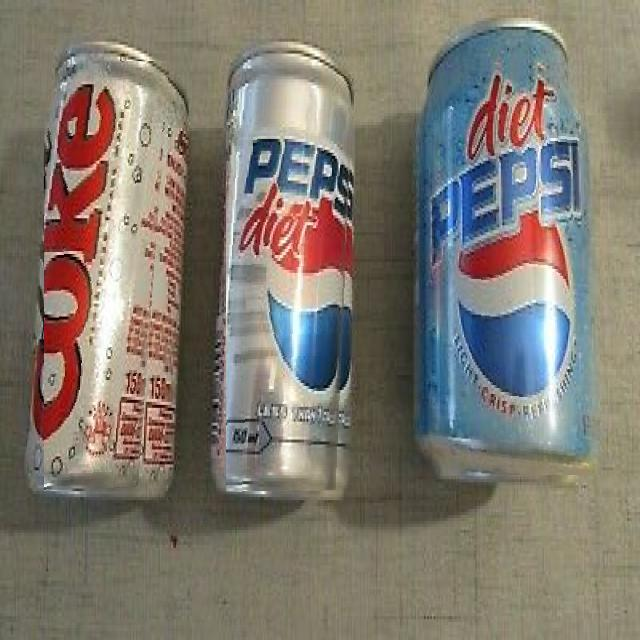Cans: (427, 57, 600, 475), (44, 61, 170, 492), (226, 76, 354, 492)
